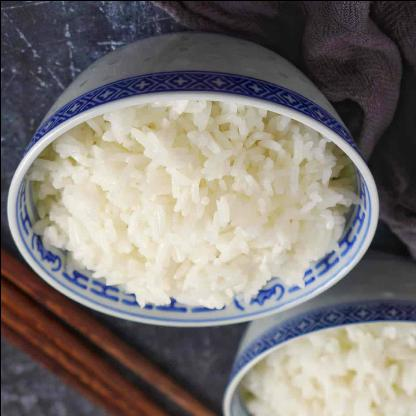white rice: (25, 102, 359, 310), (239, 323, 415, 415)
